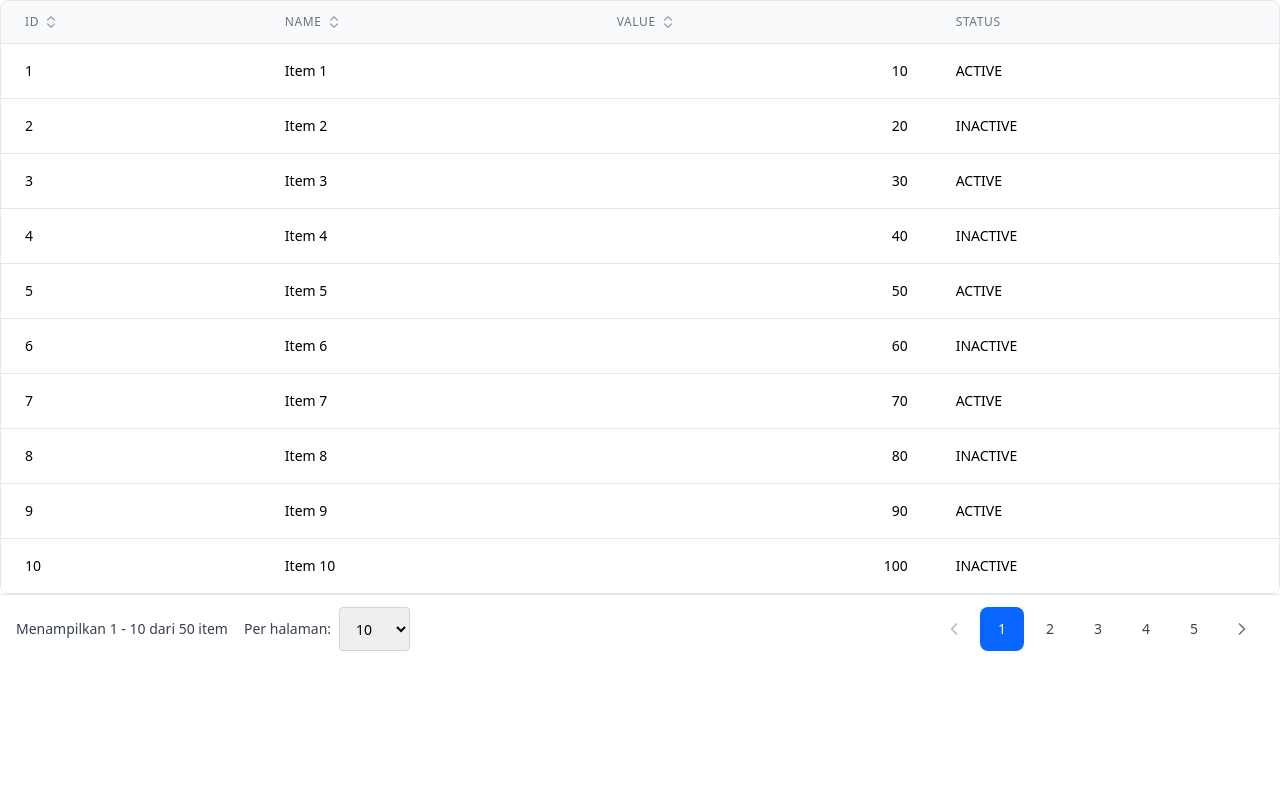
it: PaginatedDataTable › changes page when pagination button clicked
// Click next page
Click the button named "Next page": (1242, 629) [1220,607,1264,651]
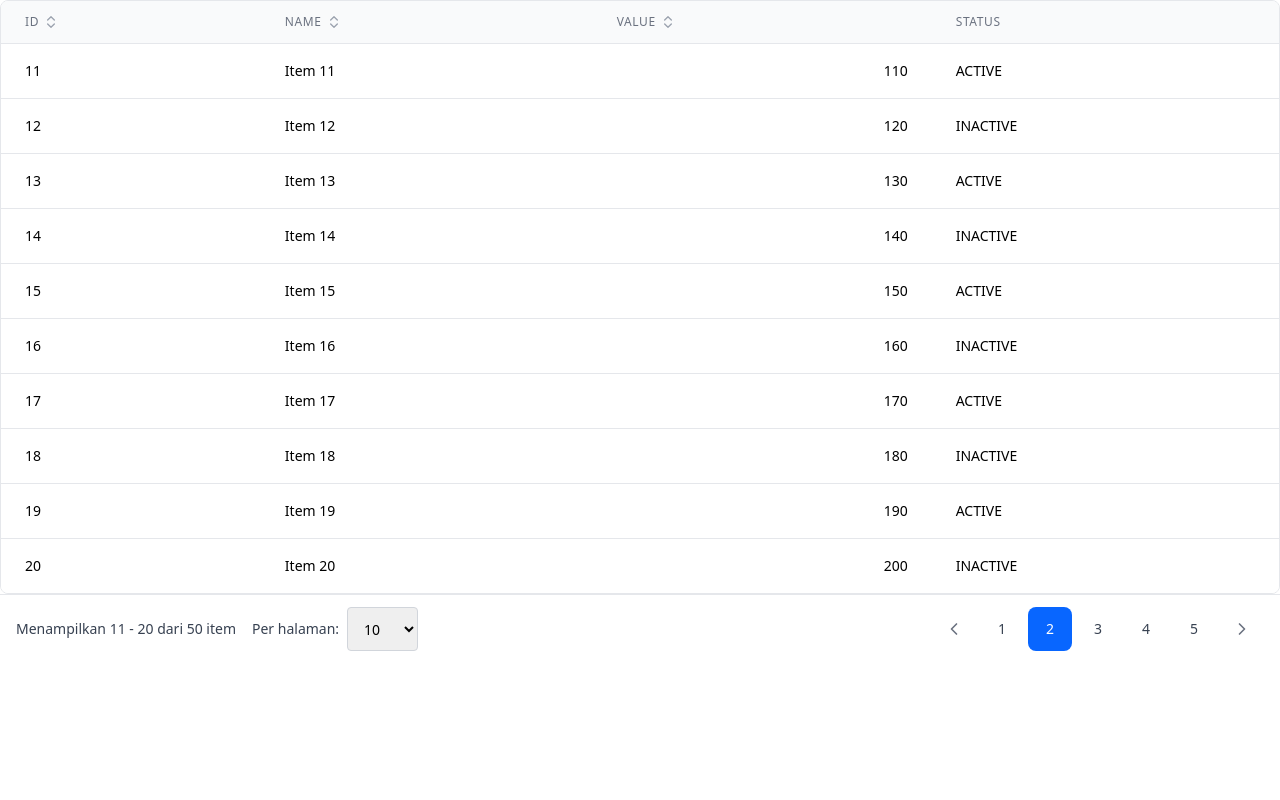
Expected: the text "Item 11" is shown, [261,44,593,98]
Expected: the text "Item 20" is shown, [261,538,593,593]
